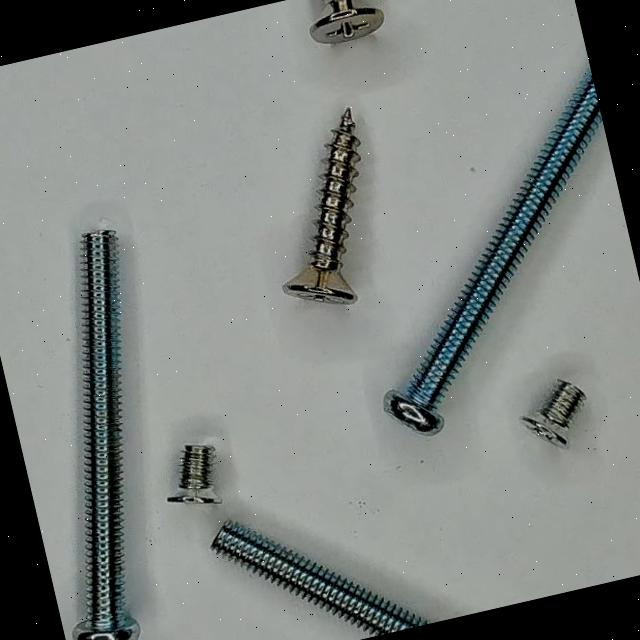Screw: (384, 66, 602, 435), (72, 229, 138, 640), (211, 521, 428, 636), (282, 107, 360, 304), (520, 380, 586, 449), (166, 445, 220, 504), (309, 0, 384, 42), (504, 260, 507, 267)
